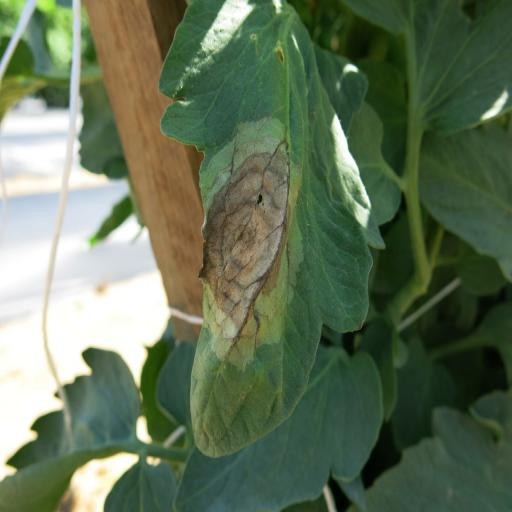disease_tomato: (158, 1, 410, 465)
